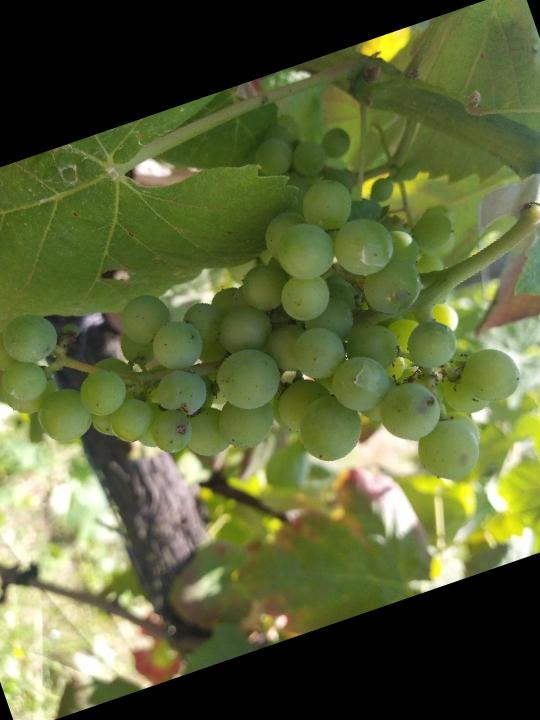grape: (0, 135, 540, 619)
